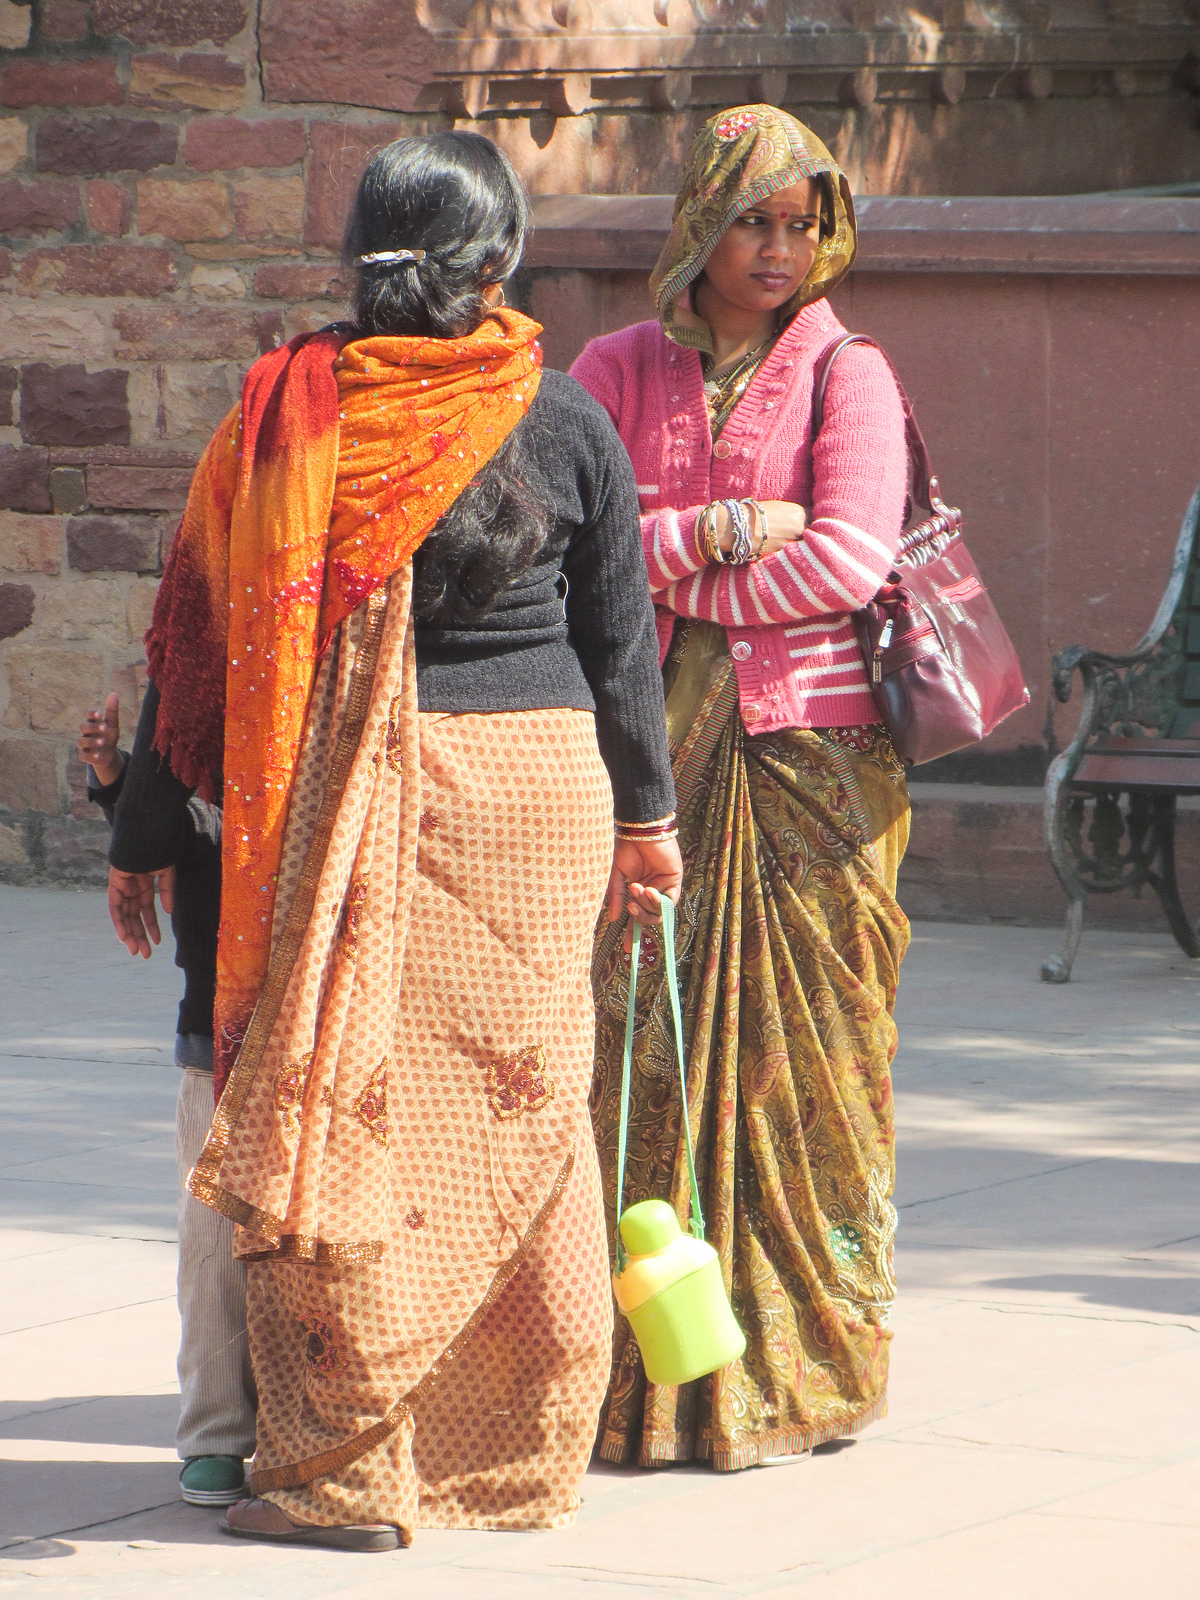Person: (109, 130, 684, 1554), (569, 104, 911, 1471)
